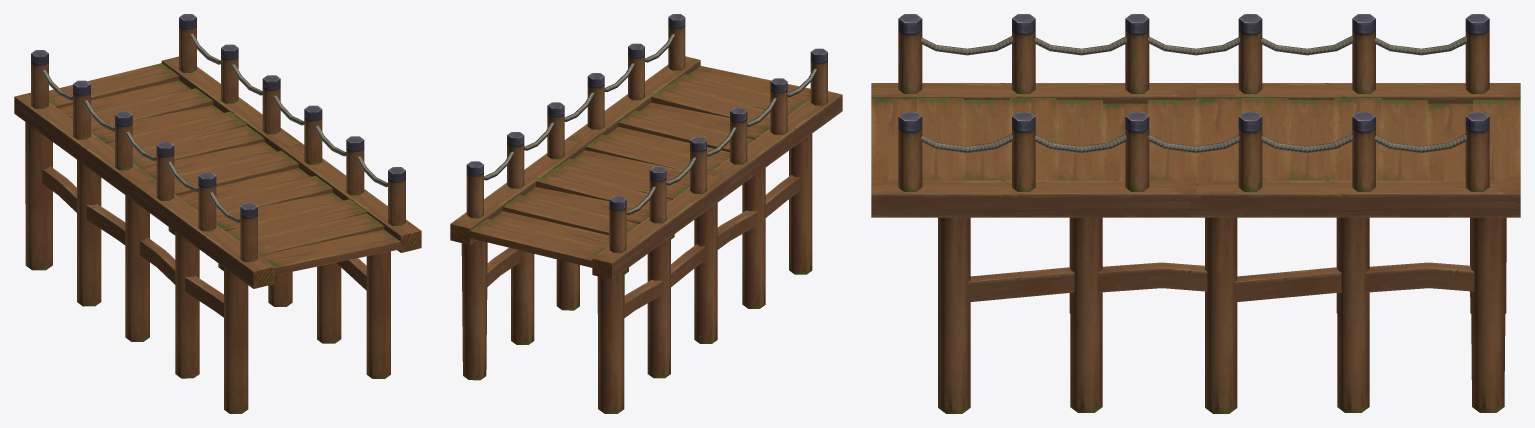
File: scene_lawennushandao_bridge02.FBX
3 views of the same model, side by side, from view 1: azimuth 30°, elevation 25°; view 2: azimuth 150°, elevation 25°; view 3: azimuth 270°, elevation 25° (orthographic). The views are drawn at different scales.
Parts seen in each view (by area): view 1: scene_lawennushandao_bridge02; view 2: scene_lawennushandao_bridge02; view 3: scene_lawennushandao_bridge02.
Part boxes in pixels (left/top/right/bottom): scene_lawennushandao_bridge02: left=14, top=14, right=421, bottom=413; scene_lawennushandao_bridge02: left=450, top=14, right=842, bottom=413; scene_lawennushandao_bridge02: left=871, top=14, right=1520, bottom=413.
Size of the model in its own units: 267 by 328 by 659.
